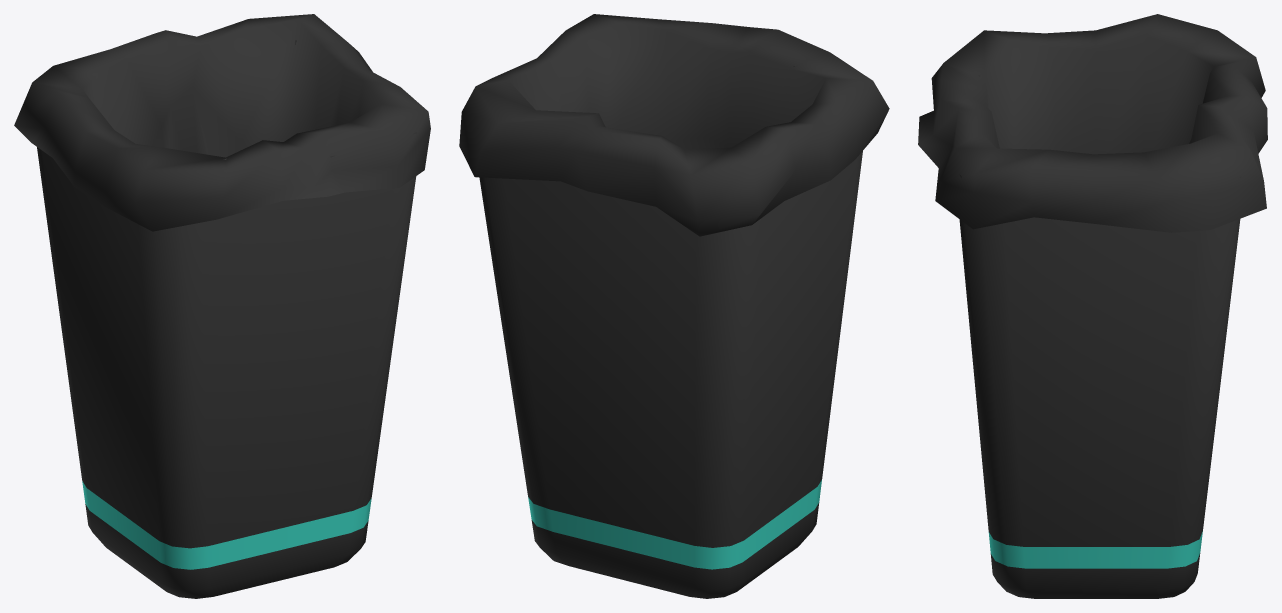
Rendered from Bin 2 Test.fbx.
3 renders of one model, left to right at view 1: azimuth 30°, elevation 25°; view 2: azimuth 150°, elevation 25°; view 3: azimuth 270°, elevation 25°, orthographic.
Visible parts, largest first — view 1: Bin, Bin Bag; view 2: Bin, Bin Bag; view 3: Bin, Bin Bag.
Boxes of the visible parts, box(x1,y1,x2,y2) form: Bin: box(37, 40, 416, 598); Bin Bag: box(14, 14, 430, 231); Bin: box(477, 65, 862, 598); Bin Bag: box(459, 14, 889, 236); Bin: box(959, 75, 1240, 598); Bin Bag: box(918, 14, 1267, 232).
Size of the model in its own units: 0.4142 by 0.5686 by 0.3823.
